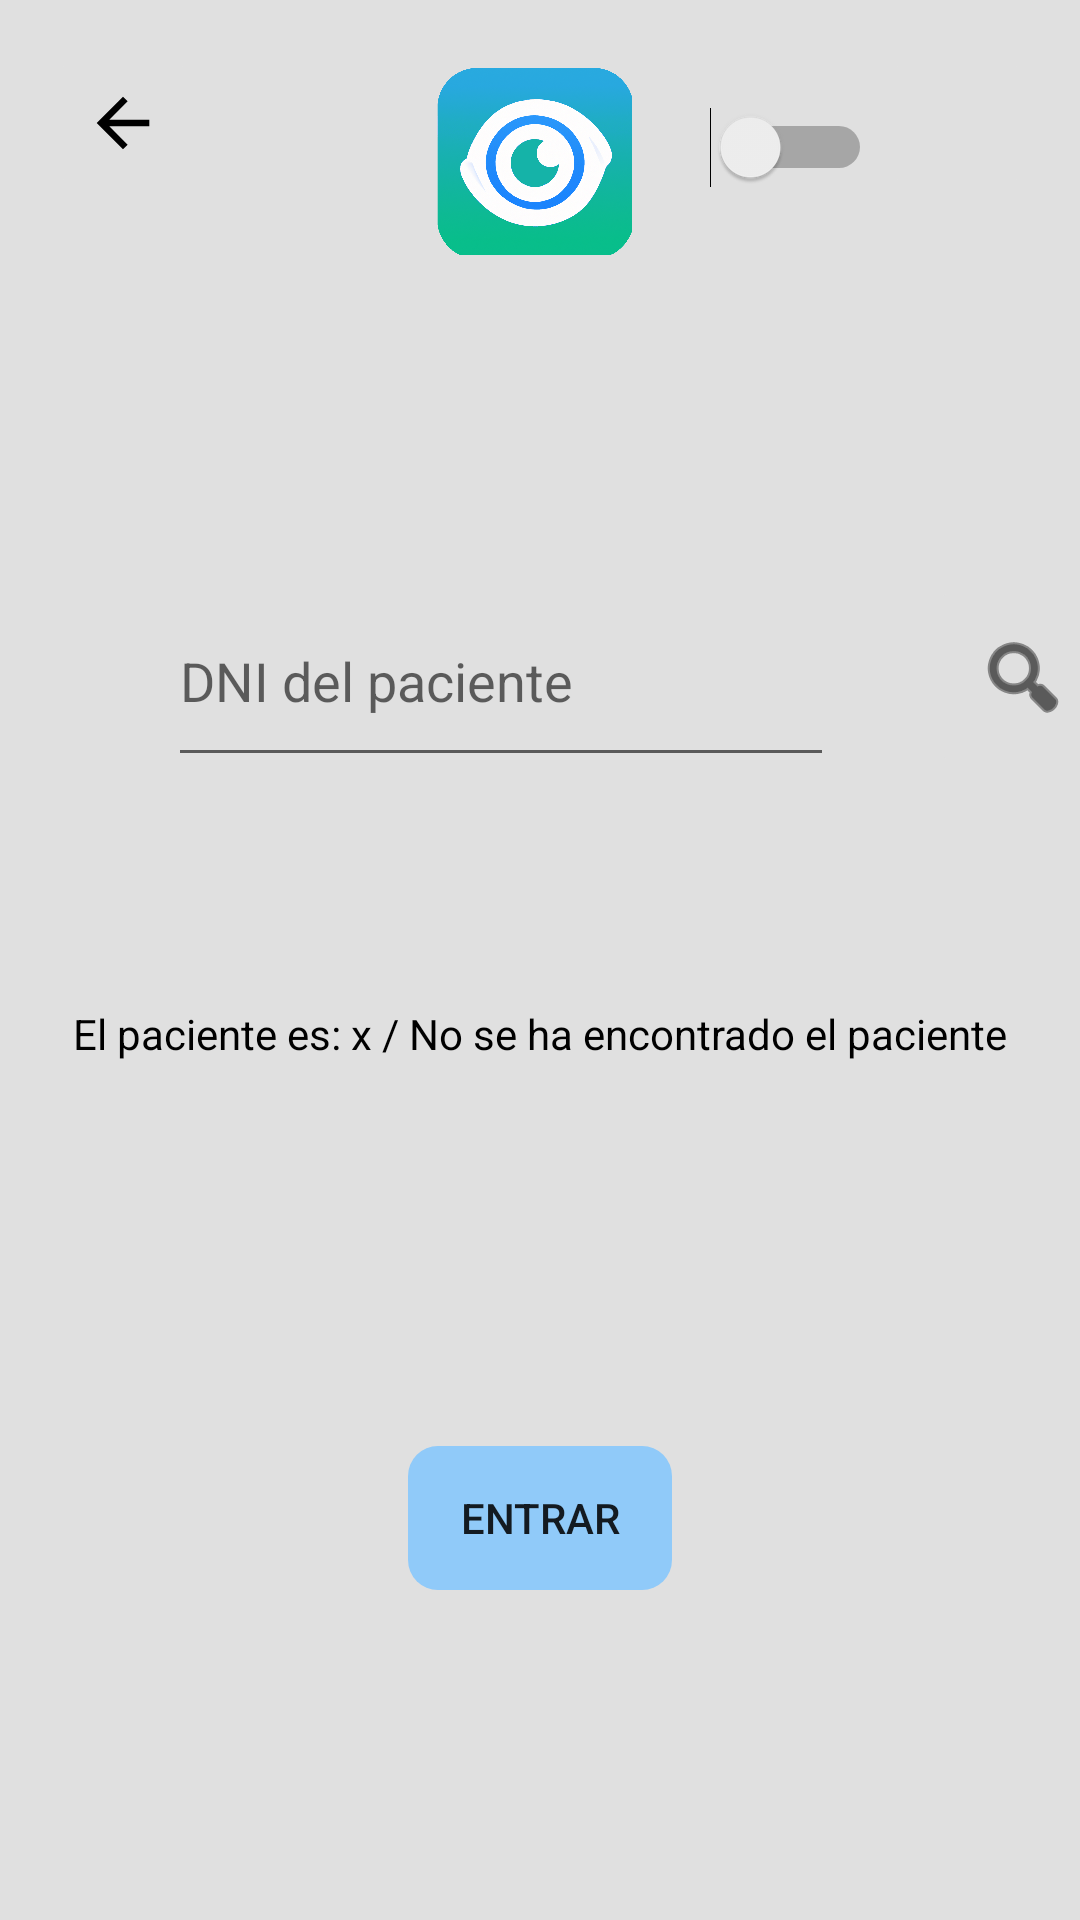

Where icons sit on this 1080x1920 app screen, as (left=x1, top=y1, right=x2, bottom=y2):
back: (left=97, top=97, right=150, bottom=149)
